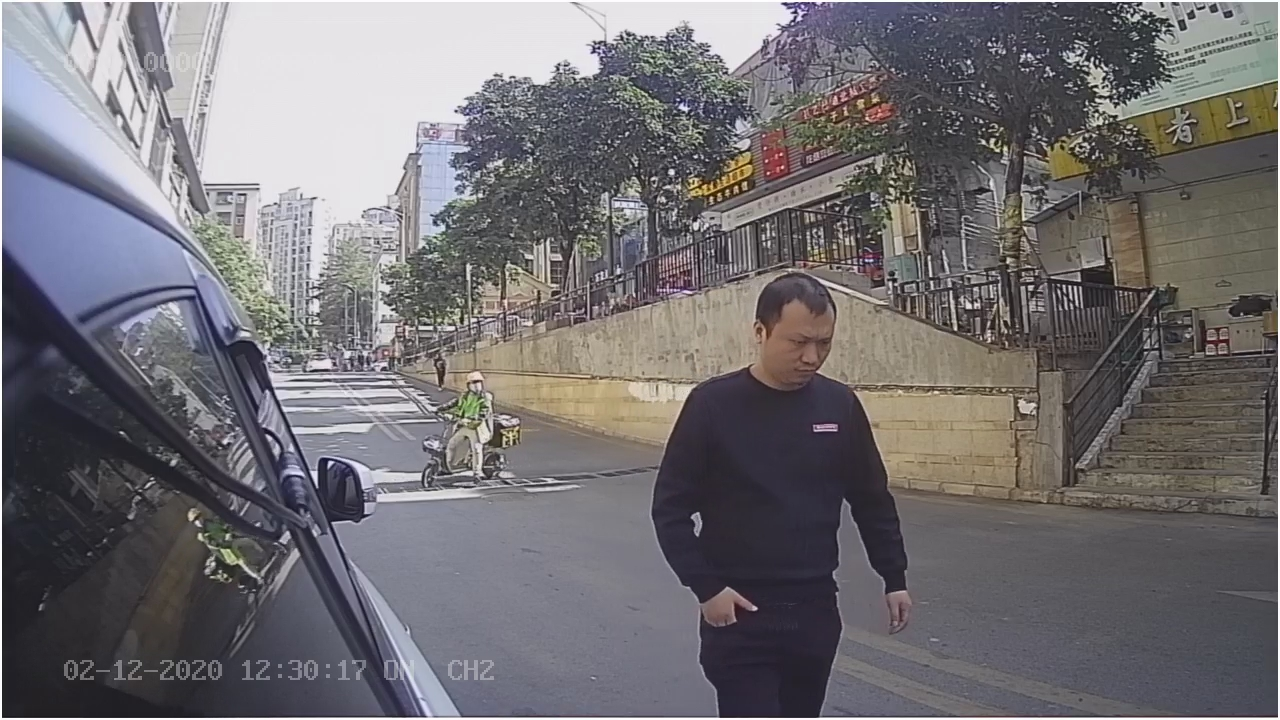person: (645, 266, 912, 643)
